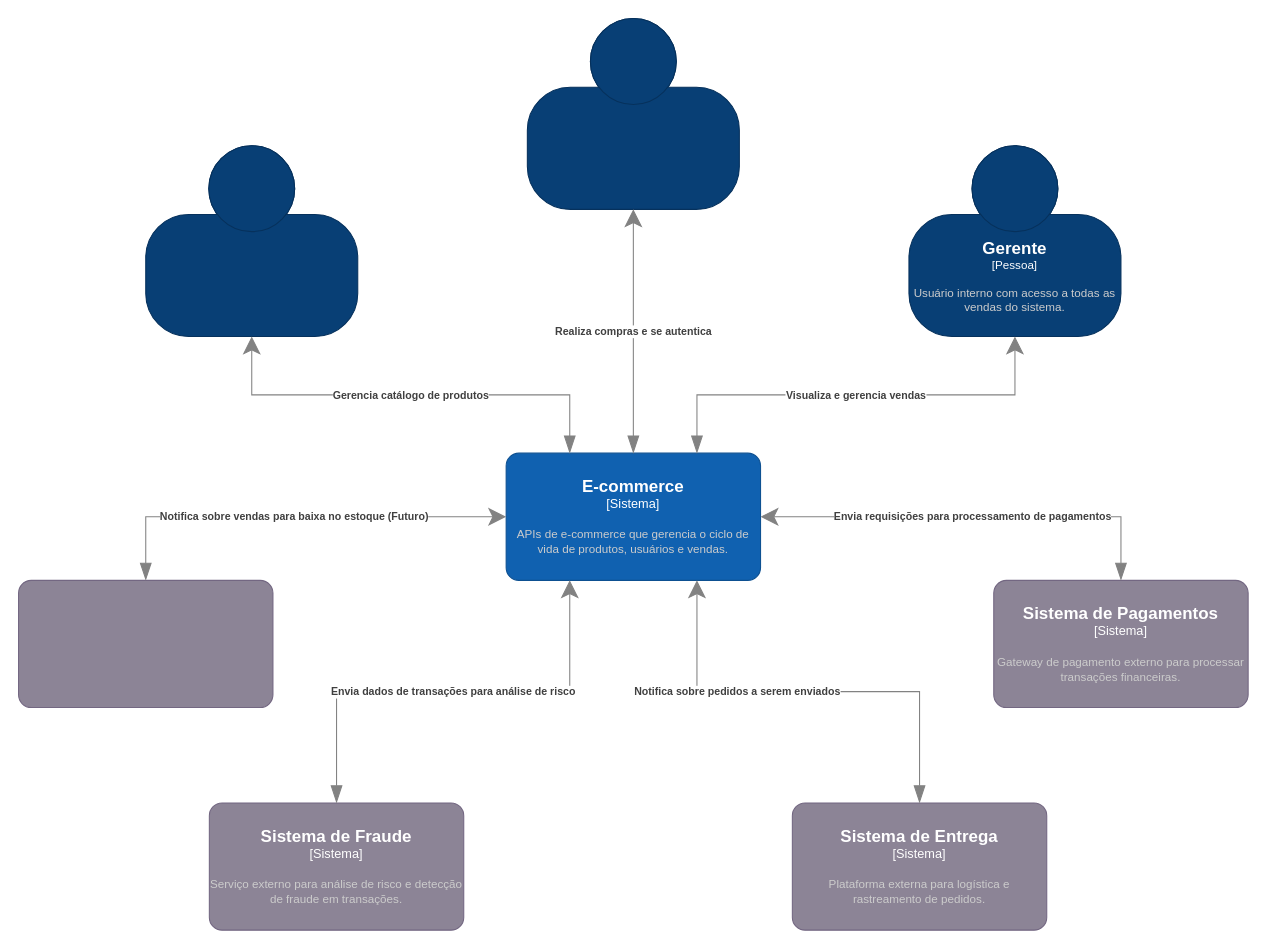
The diagram is 1267 pixels wide and 949 high, and some of its shapes have lost their labels. Here are the shapes that lost their labels. From the top down, the centre of each, then its label:
At (x=632, y=113): "Cliente [Pessoa] Usuário final que realiza compras e se autentica.".
At (x=251, y=241): "Administrador [Pessoa] Usuário interno que gerencia o catálogo de produtos.".
At (x=145, y=643): "Sistema de Estoque [Sistema] Sistema para controle de estoque.".
